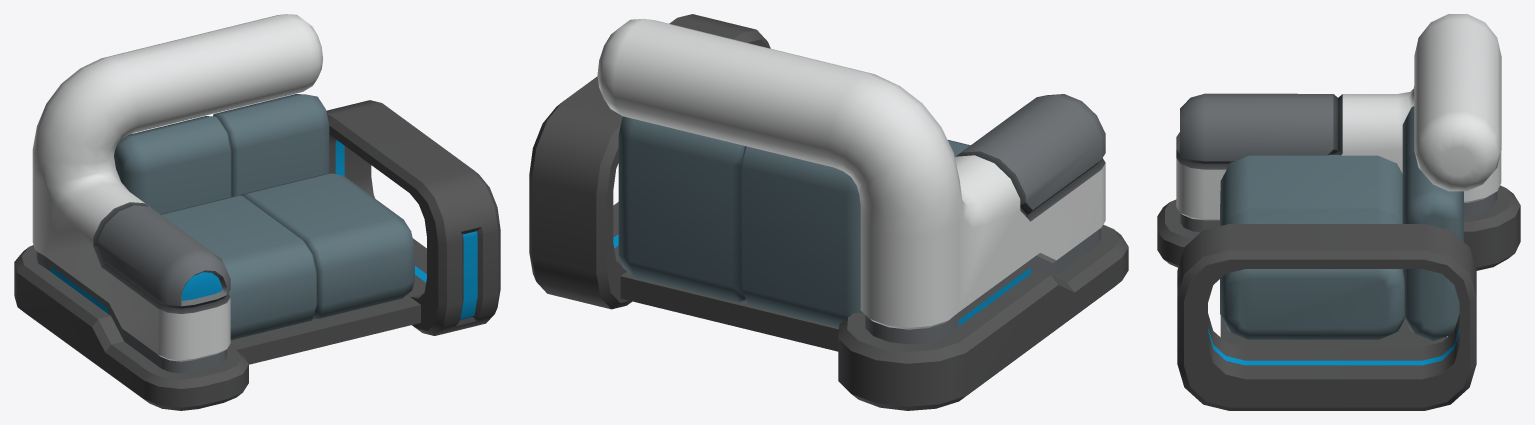
File: Mini_sofa_004.fbx
3 views of the same model, side by side, from view 1: azimuth 30°, elevation 25°; view 2: azimuth 150°, elevation 25°; view 3: azimuth 270°, elevation 25° (orthographic). The views are drawn at different scales.
Visible parts, largest first — view 1: Mini_sofa_004; view 2: Mini_sofa_004; view 3: Mini_sofa_004.
Part boxes in pixels (box(x1,y1,x2,y2)): Mini_sofa_004: box(14, 14, 500, 410); Mini_sofa_004: box(529, 14, 1128, 410); Mini_sofa_004: box(1157, 14, 1520, 410).
Bounding box in the file's own units: 132 × 112 × 88.15.
